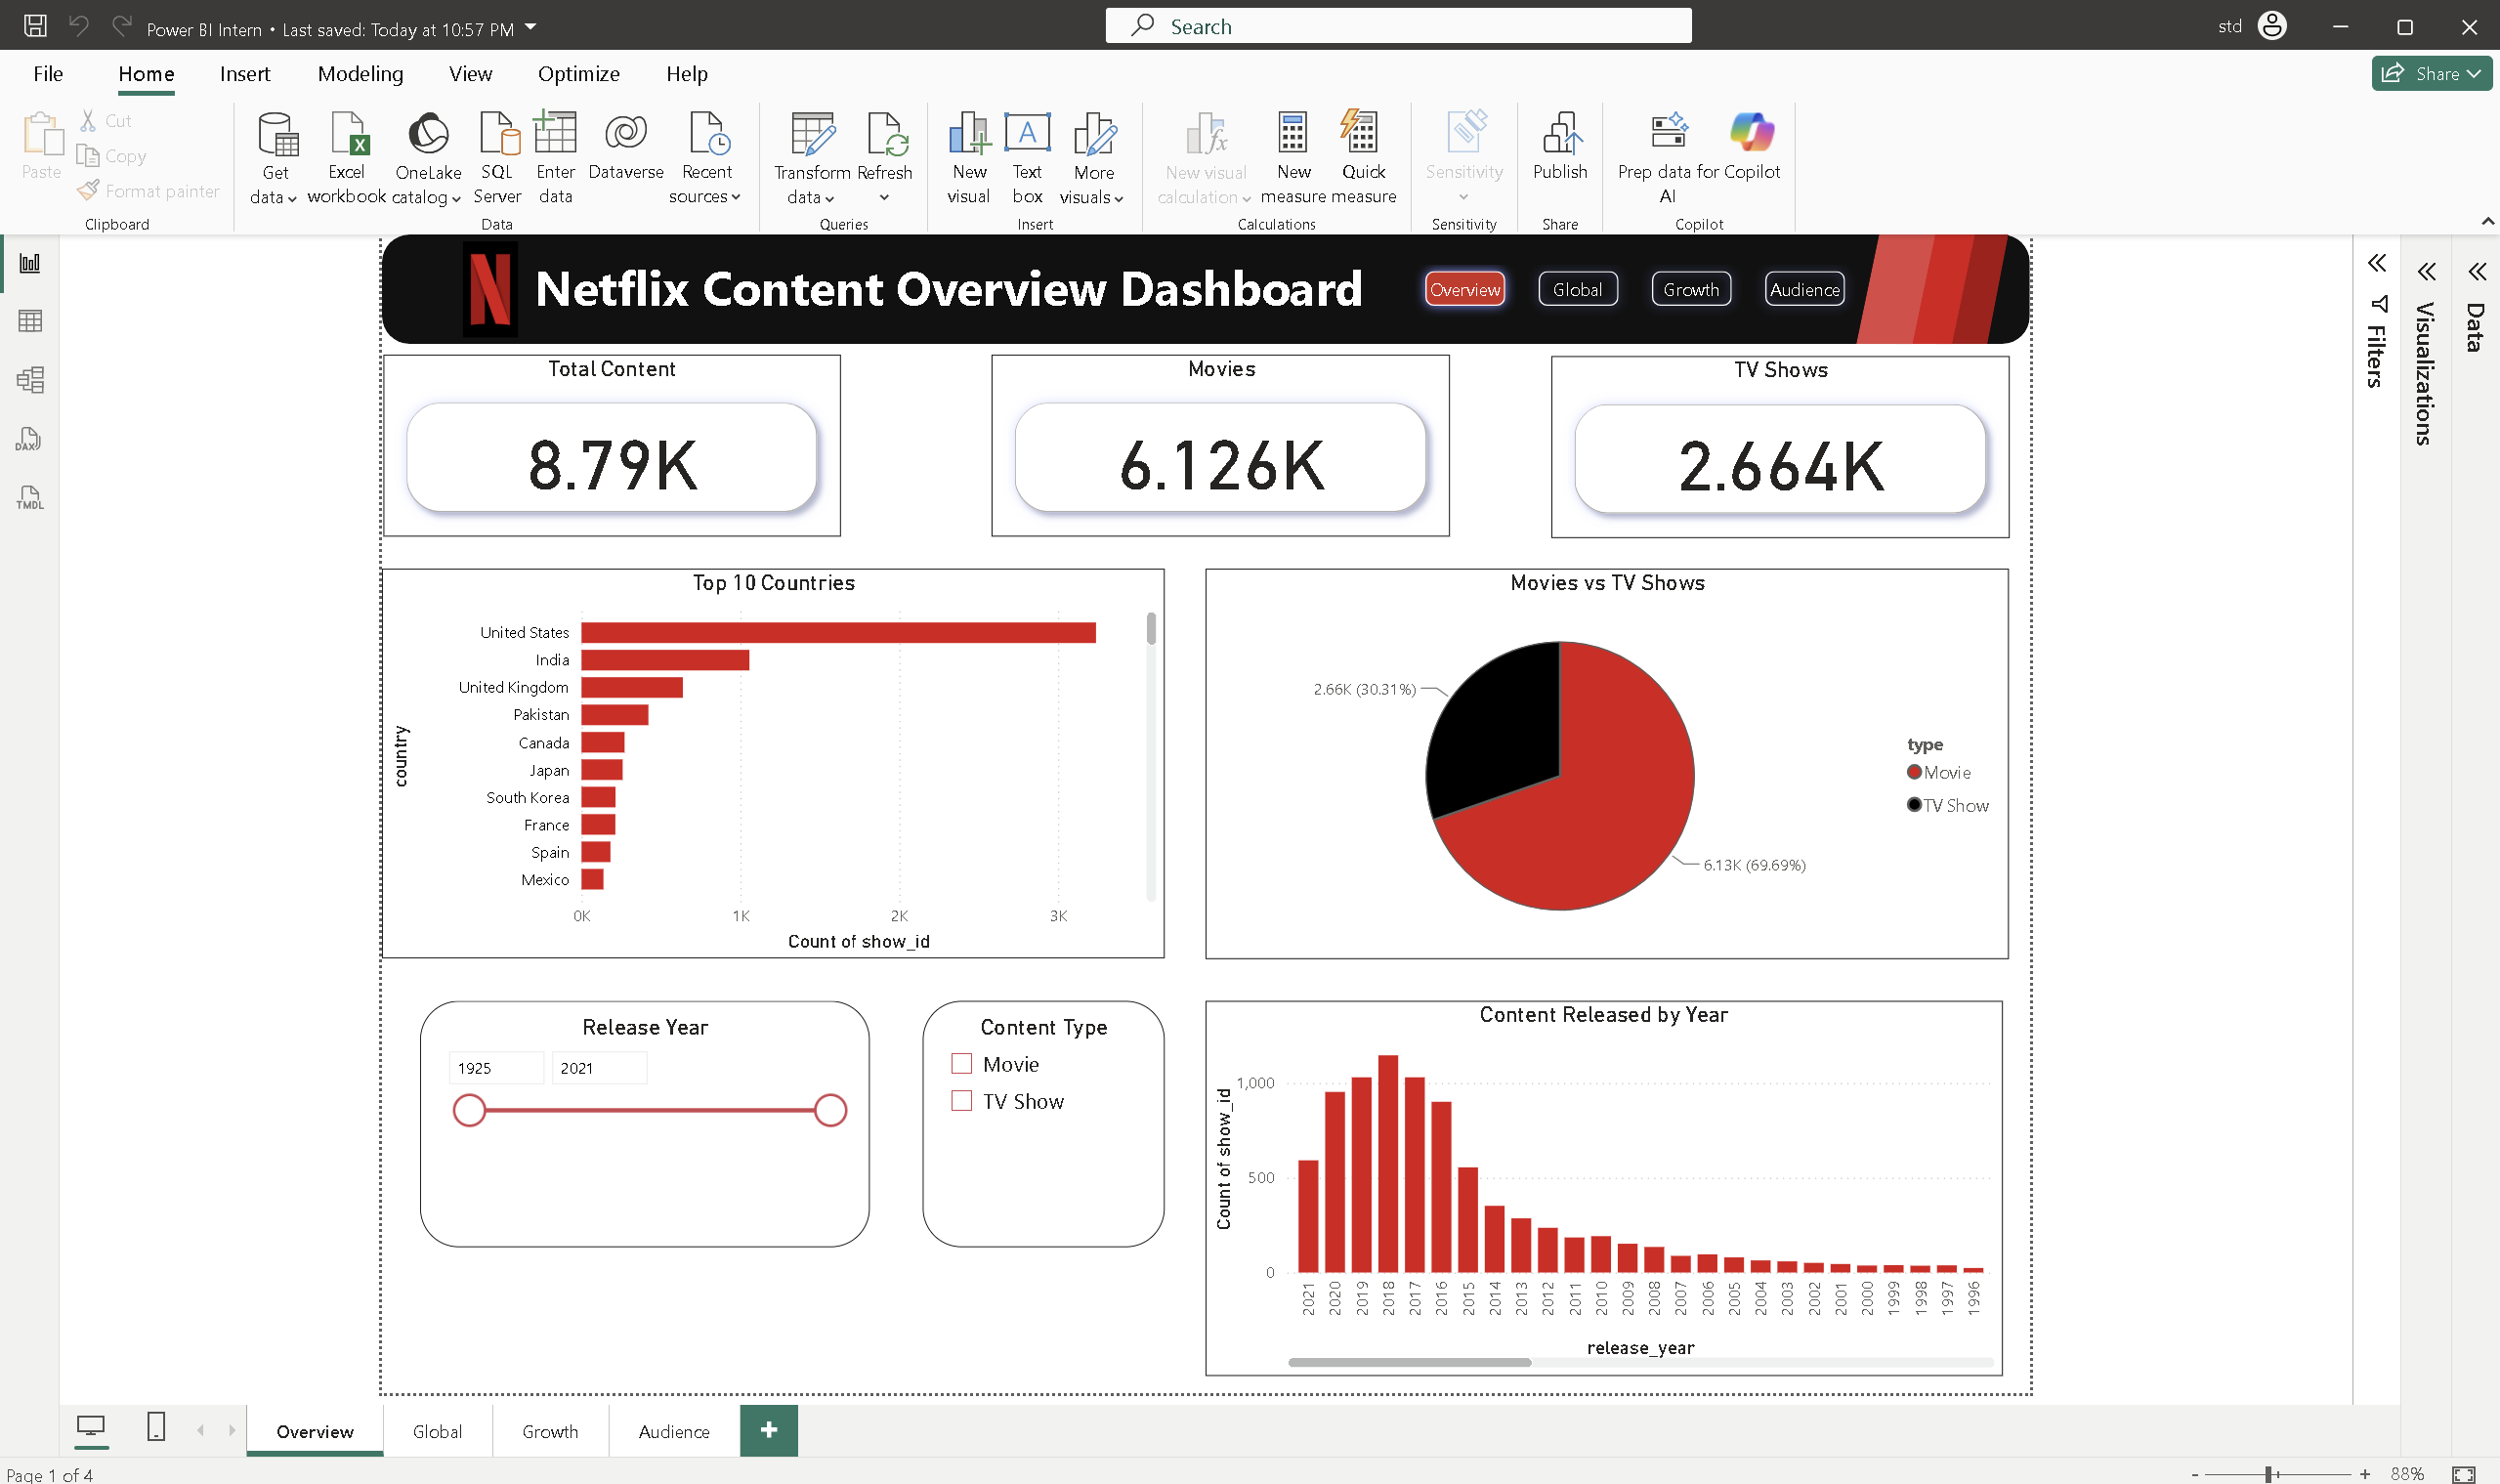

Layout of this report page (visuals, bound fields, positions):
{"tool":"powerbi","page":{"name":"Overview","canvas":[1280,900],"ordinal":0},"visuals":[{"type":"cardVisual","title":"Total Content","fields":{"Data":["Count(Dataset.show_id)"]},"box":[1,93,355,141],"z":0},{"type":"cardVisual","title":"Movies","fields":{"Data":["Count(Dataset.show_id)"]},"box":[473,93,356,141],"z":1000},{"type":"cardVisual","title":"TV Shows","fields":{"Data":["Count(Dataset.show_id)"]},"box":[908,94,356,141],"z":2000},{"type":"pieChart","title":"Movies vs TV Shows","fields":{"Category":["Dataset.type"],"Y":["Count(Dataset.show_id)"]},"box":[640,259,624,303],"z":3000},{"type":"clusteredBarChart","title":"Top 10 Countries","fields":{"Category":["Dataset.country"],"Y":["Count(Dataset.show_id)"]},"box":[0,259.5,607.8,302.8],"z":4000},{"type":"clusteredColumnChart","title":"Content Released by Year","fields":{"Category":["Dataset.release_year"],"Y":["Count(Dataset.show_id)"]},"box":[640,595,619,291],"z":5000},{"type":"slicer","title":"Release Year","fields":{"Values":["Dataset.release_year"]},"box":[30,595,349.5,191.2],"z":6000},{"type":"slicer","title":"Content Type","fields":{"Values":["Dataset.type"]},"box":[420,595,187.8,191.2],"z":7000},{"type":"shape","box":[0,0,1280,85],"z":8000},{"type":"textbox","box":[107,10.2,667.8,74.6],"z":9000},{"type":"shape","box":[1206.6,0,56.8,85.3],"z":10000},{"type":"shape","box":[1175.8,0,61.6,85.3],"z":11000},{"type":"shape","box":[1145,0,61.6,85.3],"z":12000},{"type":"image","box":[29.6,0,108.9,85.3],"z":13000},{"type":"pageNavigator","box":[802.5,20.5,343,43],"z":13001}]}

Visuals, with their boxes on the page's 1280x900 design canvas (x1, y1, x2, y2). These are canvas units, not pixel positions in the 2500x1484 screenshot, which may show the page scaled, cropped or inside an application window:
"Total Content" cardVisual: 1/93/356/234
"Movies" cardVisual: 473/93/829/234
"TV Shows" cardVisual: 908/94/1264/235
"Movies vs TV Shows" pieChart: 640/259/1264/562
"Top 10 Countries" clusteredBarChart: 0/260/608/562
"Content Released by Year" clusteredColumnChart: 640/595/1259/886
"Release Year" slicer: 30/595/380/786
"Content Type" slicer: 420/595/608/786
shape: 0/0/1280/85
textbox: 107/10/775/85
shape: 1207/0/1263/85
shape: 1176/0/1237/85
shape: 1145/0/1207/85
image: 30/0/138/85
pageNavigator: 802/20/1146/64
